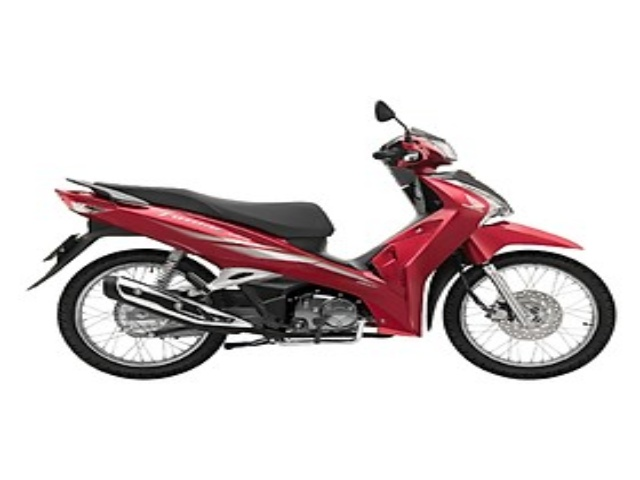Xe_may: (26, 98, 618, 380)
